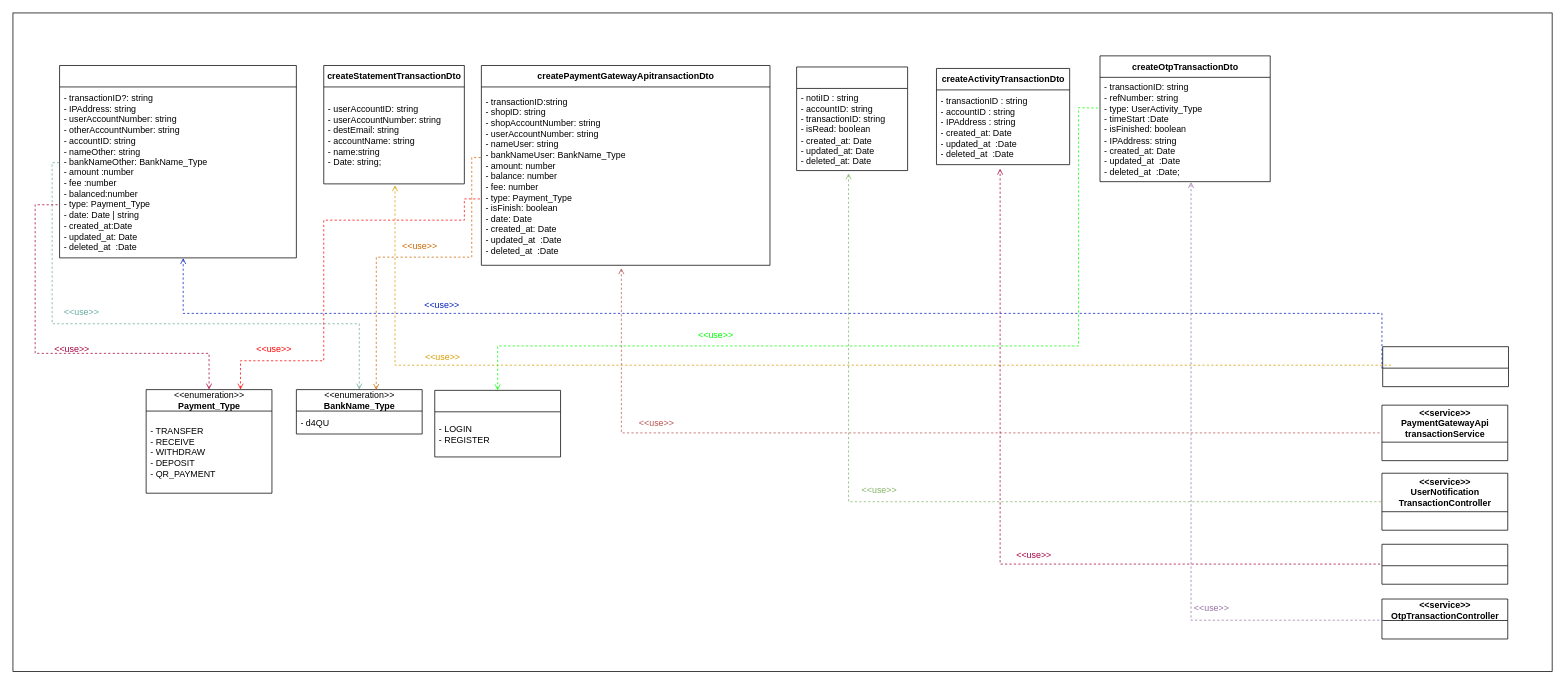
This 1565x685 diagram has some shape labels left out. Here are the shapes that lost their labels. From the top down, the box of each, then its label:
(796, 66, 908, 171): User Notification Transaction
(59, 65, 296, 258): createPaymentTransactionDto
(1382, 346, 1508, 387): <<service>> PaymentTransactionService
(434, 390, 561, 457): <<enumeration>> UserActivity_Type
(1381, 544, 1508, 584): <<service>> ActivityTransactionService
